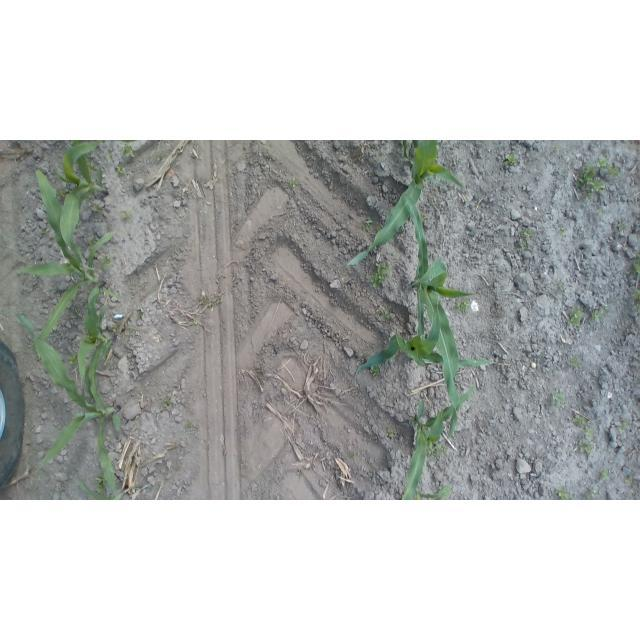Maize: (8, 311, 136, 500), (336, 141, 468, 270), (27, 171, 121, 352), (401, 191, 477, 413), (392, 386, 477, 500), (346, 332, 496, 393), (56, 140, 113, 272), (76, 284, 125, 397), (415, 487, 455, 500)
Weeds: (572, 158, 604, 205), (369, 262, 393, 288), (568, 306, 587, 328), (549, 387, 567, 409), (576, 440, 596, 459), (517, 228, 534, 250), (121, 144, 141, 161), (570, 413, 589, 430), (200, 294, 223, 308), (454, 299, 474, 315), (95, 471, 108, 495), (434, 441, 451, 459), (119, 208, 137, 225), (593, 304, 611, 320), (554, 487, 575, 500), (503, 151, 518, 169), (361, 215, 376, 233), (54, 184, 72, 199), (90, 202, 106, 218), (66, 350, 82, 366), (380, 309, 396, 324), (568, 356, 583, 371), (114, 163, 128, 179), (386, 425, 398, 443), (38, 225, 53, 239), (600, 154, 613, 170), (160, 394, 173, 410), (618, 420, 630, 437), (607, 166, 621, 180), (183, 419, 197, 433), (370, 362, 383, 377), (632, 254, 640, 276), (100, 256, 113, 269), (366, 465, 380, 477), (86, 234, 100, 246), (584, 490, 600, 500), (584, 426, 597, 438), (348, 450, 360, 463), (554, 225, 567, 237), (555, 281, 569, 292), (287, 175, 298, 189), (634, 288, 640, 313), (601, 471, 614, 482), (188, 318, 200, 329), (616, 222, 626, 235), (135, 307, 144, 321), (105, 149, 116, 160), (551, 145, 562, 155)
